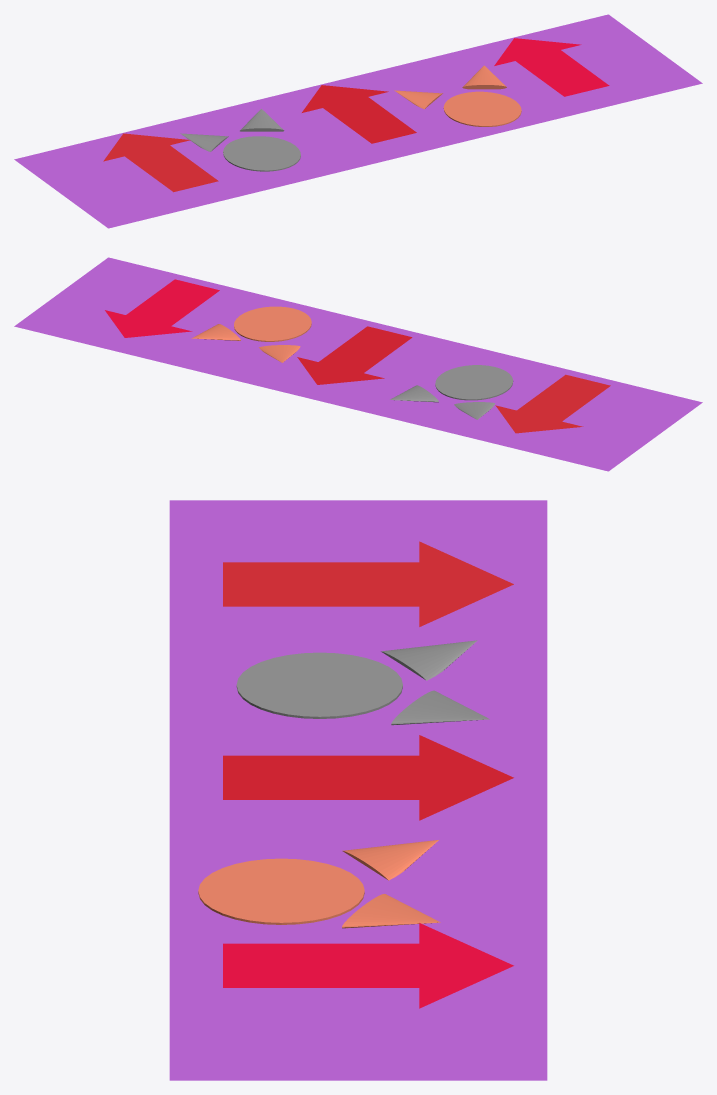
Rendered from speed boost.fbx.
3 views of the same model, one above another, from view 1: azimuth 30°, elevation 25°; view 2: azimuth 150°, elevation 25°; view 3: azimuth 270°, elevation 25° (orthographic). The views are drawn at different scales.
Parts seen in each view (by area): view 1: Plane.001, Plane, Plane.002, Plane.003, Cylinder, Cylinder.001, Cone.002, Cone.001, Cone.003, Cone; view 2: Plane.001, Plane, Plane.002, Plane.003, Cylinder, Cylinder.001, Cone.001, Cone.002, Cone.003, Cone; view 3: Plane.001, Plane.002, Plane.003, Plane, Cylinder, Cylinder.001, Cone.003, Cone.002, Cone.001, Cone.
Boxes of the visible parts, bbox=[...] form: Plane.001: bbox=[14, 14, 702, 228]; Plane: bbox=[103, 133, 218, 192]; Plane.002: bbox=[302, 85, 416, 143]; Plane.003: bbox=[494, 38, 609, 96]; Cylinder: bbox=[223, 136, 300, 171]; Cylinder.001: bbox=[443, 91, 521, 126]; Cone.002: bbox=[462, 65, 506, 89]; Cone.001: bbox=[240, 109, 284, 131]; Cone.003: bbox=[394, 90, 442, 109]; Cone: bbox=[180, 133, 228, 151]; Plane.001: bbox=[14, 257, 702, 471]; Plane: bbox=[495, 374, 610, 433]; Plane.002: bbox=[297, 326, 412, 384]; Plane.003: bbox=[105, 279, 219, 337]; Cylinder: bbox=[435, 365, 513, 400]; Cylinder.001: bbox=[234, 306, 311, 341]; Cone.001: bbox=[390, 385, 438, 402]; Cone.002: bbox=[191, 324, 240, 340]; Cone.003: bbox=[259, 345, 300, 362]; Cone: bbox=[454, 402, 494, 419]; Plane.001: bbox=[169, 500, 547, 1080]; Plane.002: bbox=[223, 735, 513, 820]; Plane.003: bbox=[223, 923, 513, 1008]; Plane: bbox=[223, 541, 513, 626]; Cylinder: bbox=[236, 652, 402, 718]; Cylinder.001: bbox=[198, 858, 364, 924]; Cone.003: bbox=[342, 840, 438, 880]; Cone.002: bbox=[342, 894, 440, 928]; Cone.001: bbox=[391, 690, 489, 725]; Cone: bbox=[381, 640, 477, 680].
Size of the model in its own units: 3062 by 54.02 by 842.
